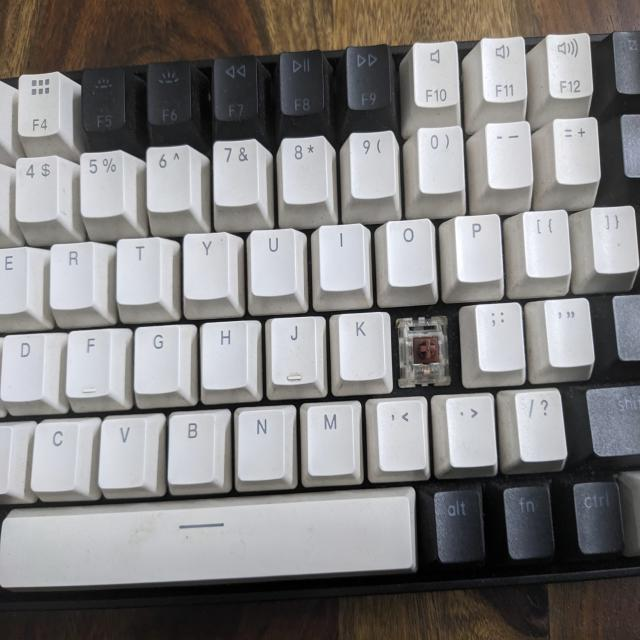C: (400, 318, 452, 381)
